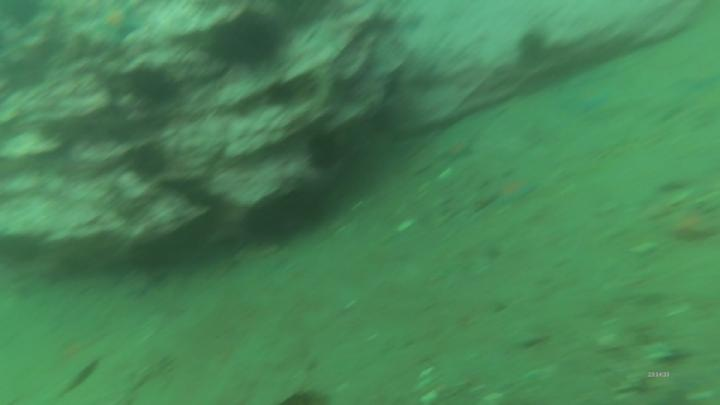echinus: (210, 14, 285, 75), (124, 64, 185, 109), (300, 127, 349, 177), (124, 141, 172, 182), (518, 28, 551, 70)
starfish: (665, 204, 720, 250), (92, 5, 145, 47), (559, 81, 610, 116), (497, 174, 538, 208), (439, 140, 477, 167)
